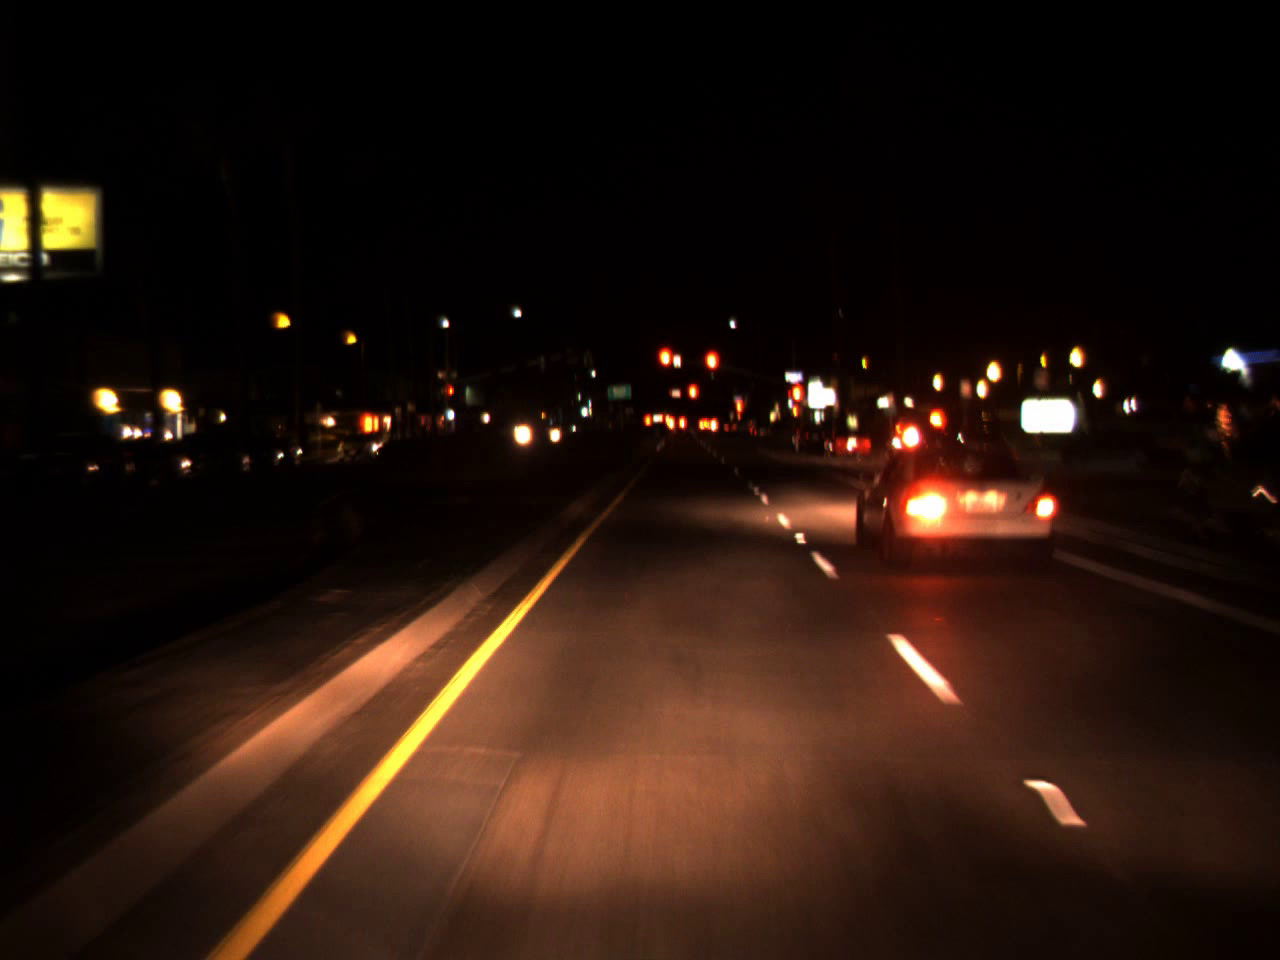stop: (655, 343, 677, 391), (702, 347, 721, 392), (789, 378, 805, 429), (687, 381, 699, 416), (734, 396, 744, 439), (446, 383, 455, 407)
